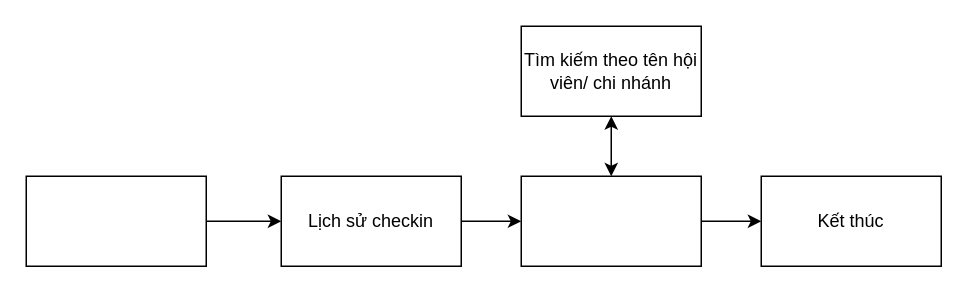
Some shapes in this 968 by 293 pixel diagram are drawn without their labels. The shapes that lost their labels are listed below. From the top down, each one's centre as x and y in pixels, then its label:
At pixel 115 220: "Manager truy cập hội viên".
At pixel 610 220: "Hệ thống hiển thị các lượt checkin thuộc các chi nhánh quản lý quản lý".
